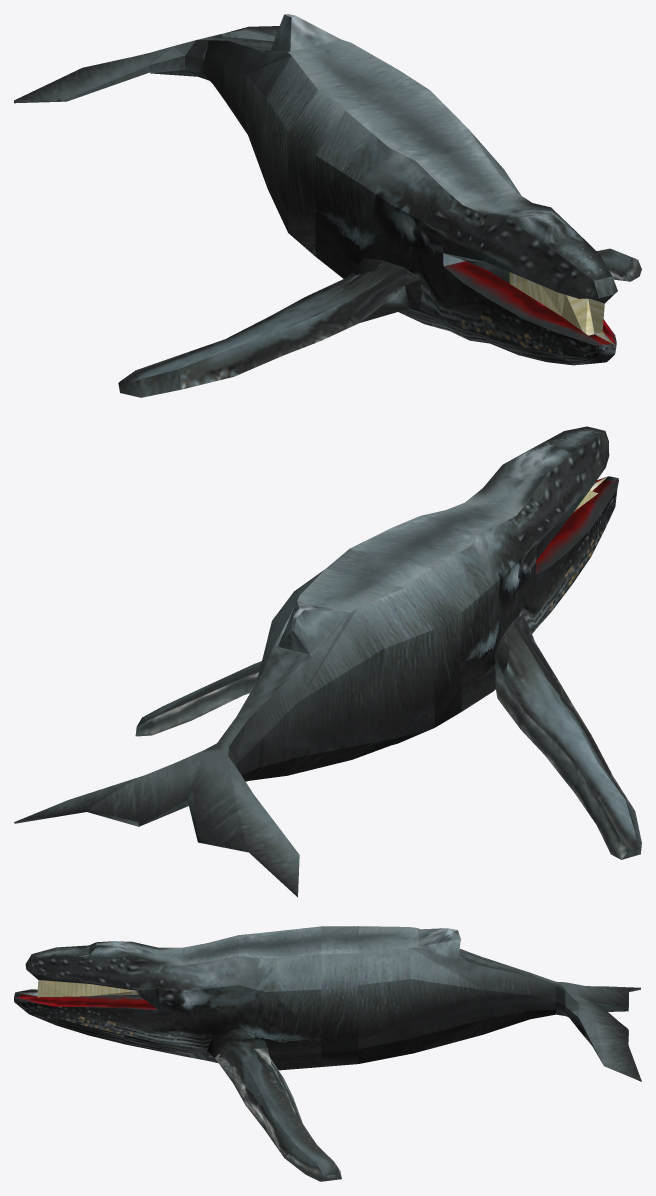
Rendered from baleia.dae.
The picture shows the model from 3 angles, top to bottom: view 1: azimuth 30°, elevation 25°; view 2: azimuth 150°, elevation 25°; view 3: azimuth 270°, elevation 25°; orthographic projection. The views are drawn at different scales.
Visible parts, largest first — view 1: Box01; view 2: Box01; view 3: Box01.
Boxes of the visible parts, left/top/right/bottom form: Box01: left=14, top=14, right=641, bottom=397; Box01: left=14, top=426, right=641, bottom=897; Box01: left=14, top=926, right=641, bottom=1181.
Size of the model in its own units: 492 by 762 by 228.
Materials: 1 (1 with a texture image).
